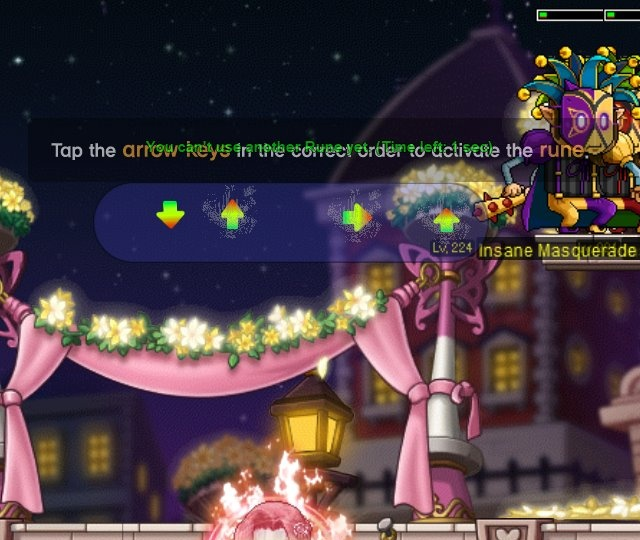rune_box: (87, 174, 506, 269)
